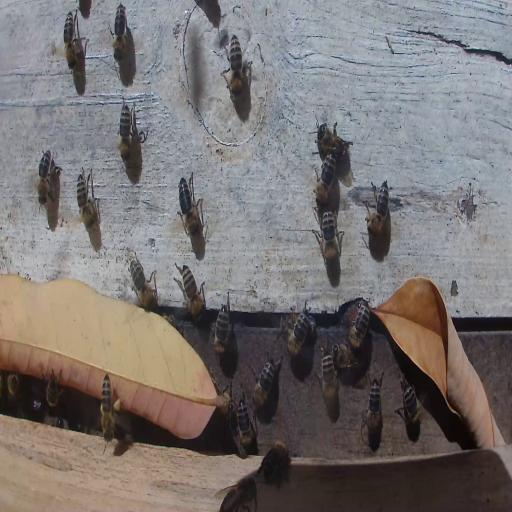nonpollenbee: (315, 206, 344, 270), (128, 256, 159, 310), (317, 121, 350, 169), (260, 439, 291, 489), (178, 174, 202, 238), (76, 166, 100, 230), (179, 264, 205, 321), (364, 180, 391, 234), (220, 475, 258, 511), (234, 396, 256, 458), (321, 344, 340, 414), (251, 357, 275, 411), (399, 377, 423, 429), (314, 151, 337, 205), (277, 309, 317, 340), (364, 378, 384, 438), (346, 302, 370, 349), (212, 302, 230, 361), (286, 309, 309, 355), (227, 34, 244, 96), (111, 2, 127, 60), (333, 344, 364, 372), (118, 100, 132, 159), (64, 11, 77, 71), (37, 151, 51, 205), (46, 373, 60, 412), (7, 370, 20, 406), (28, 396, 42, 415)
pollenbee: (98, 374, 122, 444)
